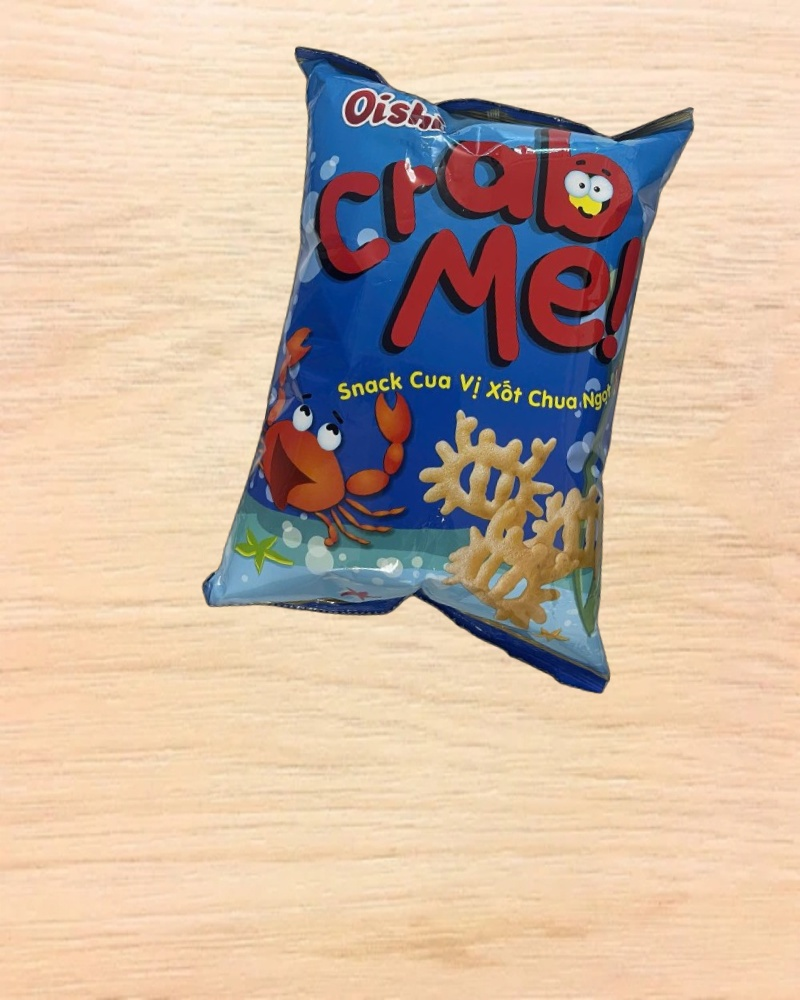Snack chay: (195, 39, 710, 697)
